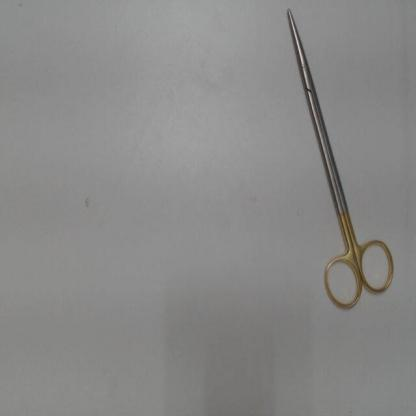7 Metzenbaum Scissors: (283, 4, 398, 316)
